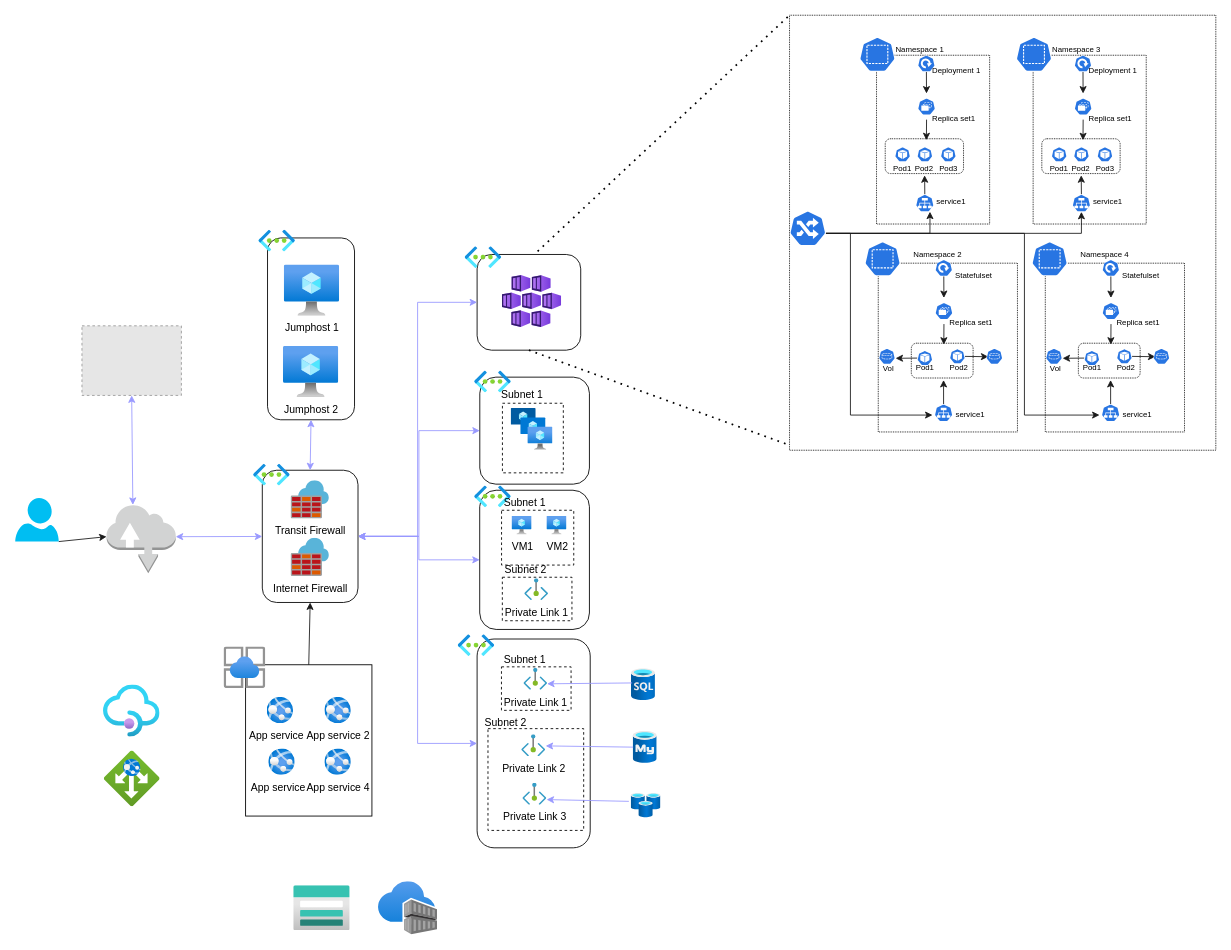
The diagram is 1231 pixels wide and 950 high, and some of its shapes have lost their labels. Grey dashed boxes stand in for pictures. Each missing label, with the centre of its shape:
AKS: (x=531, y=301)
ASE: (x=244, y=667)
Internet: (x=141, y=538)
MySQL: (x=645, y=746)
Redis cache: (x=645, y=805)
SQL Server instance: (x=643, y=684)
VMSS: (x=531, y=429)
